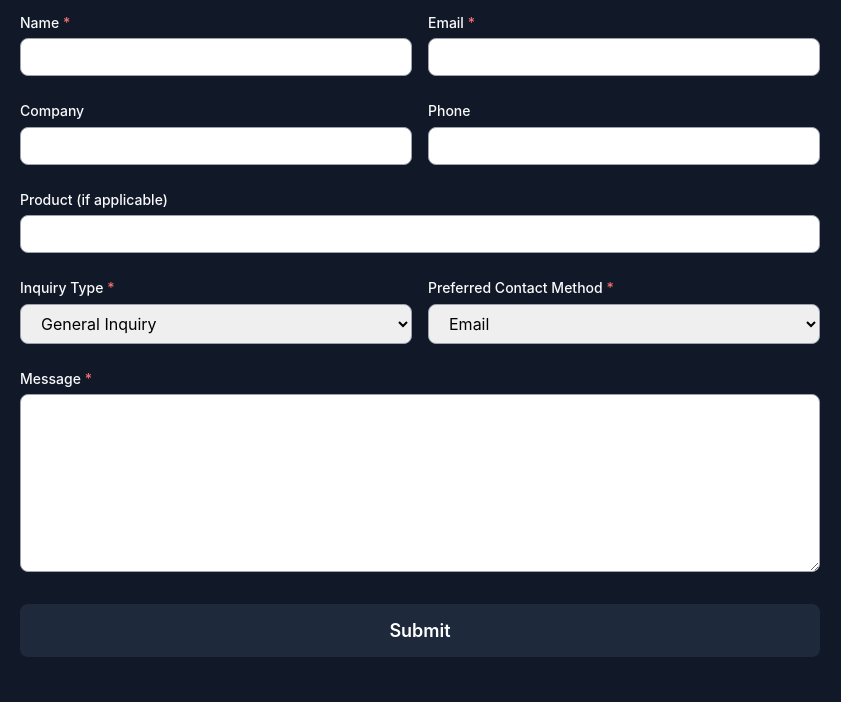
Test case: ContactForm Validation › should validate message length
The image size is (841, 702).
In the field labelled "Name *": {"x": 216, "y": 57} x1=20 y1=38 x2=412 y2=76, type "John Doe"
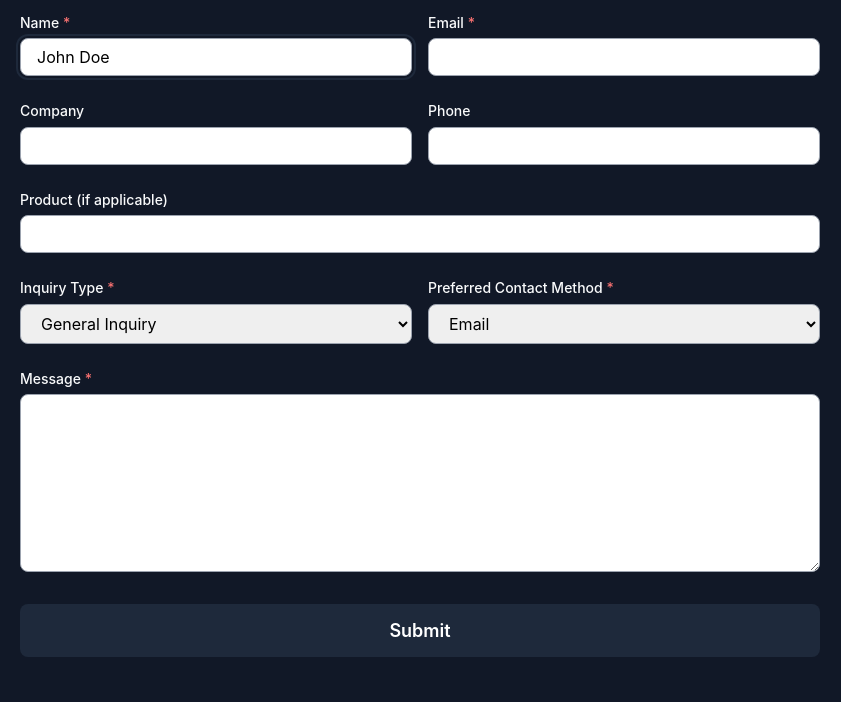
In the field labelled "Email *": {"x": 624, "y": 57} x1=428 y1=38 x2=820 y2=76, type "john@example.com"
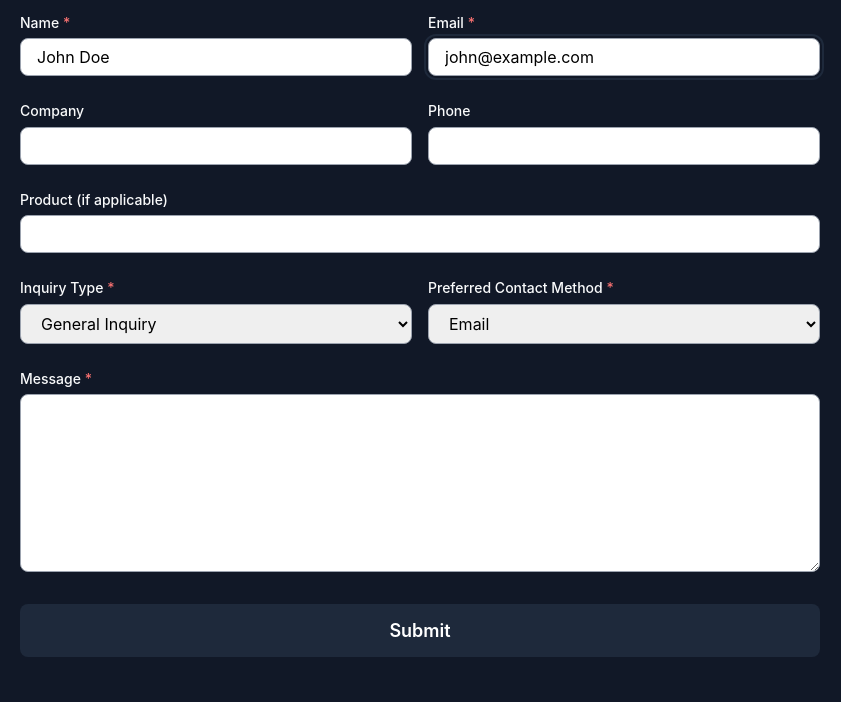
In the text box labelled "Message *": {"x": 420, "y": 483} x1=20 y1=394 x2=820 y2=572, type "Short"
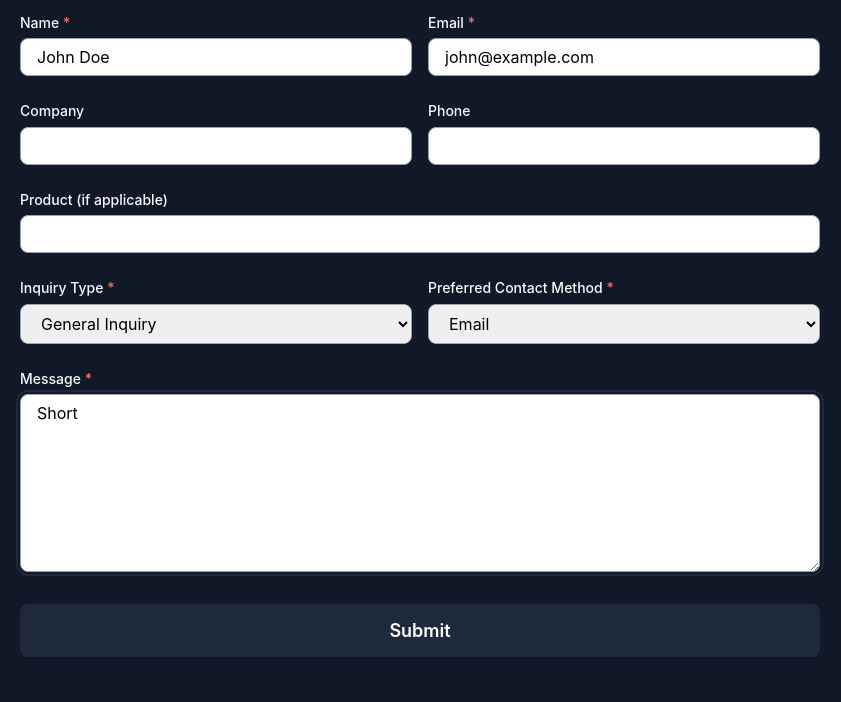
Click the button "Submit": {"x": 420, "y": 630} x1=20 y1=604 x2=820 y2=656
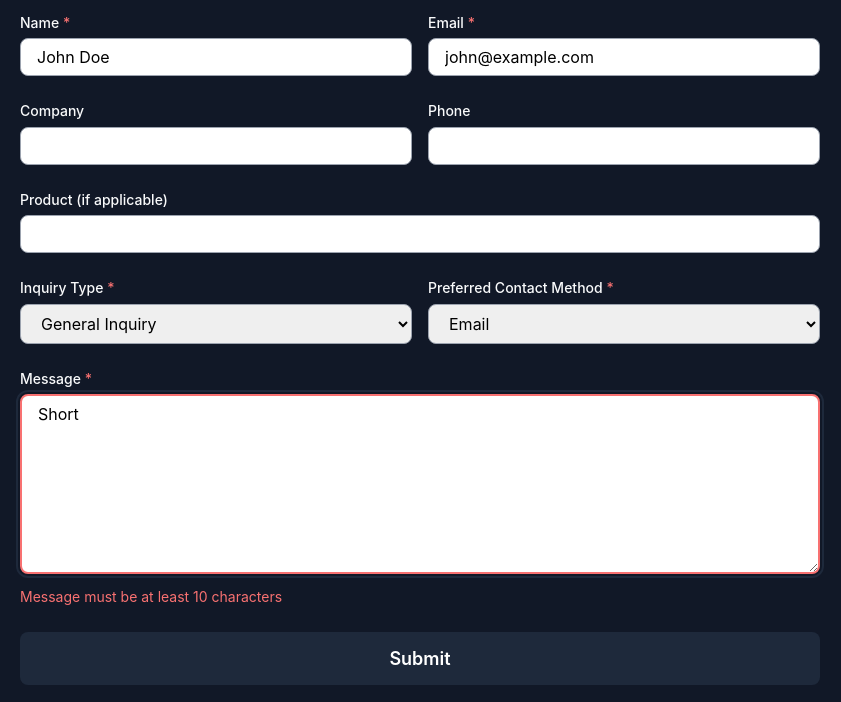
Expected: the text "Message must be at least 10 characters" is shown, x1=20 y1=588 x2=282 y2=604
